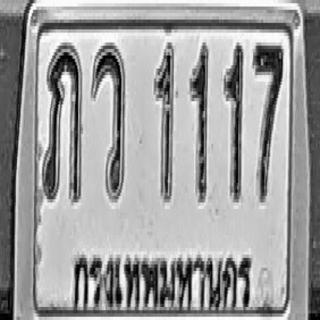A32: (43, 46, 82, 202)
A37: (91, 46, 125, 199)
N01: (189, 41, 208, 201), (154, 41, 173, 201), (224, 42, 243, 199)
N07: (253, 41, 282, 201)
P04: (68, 244, 256, 320)
